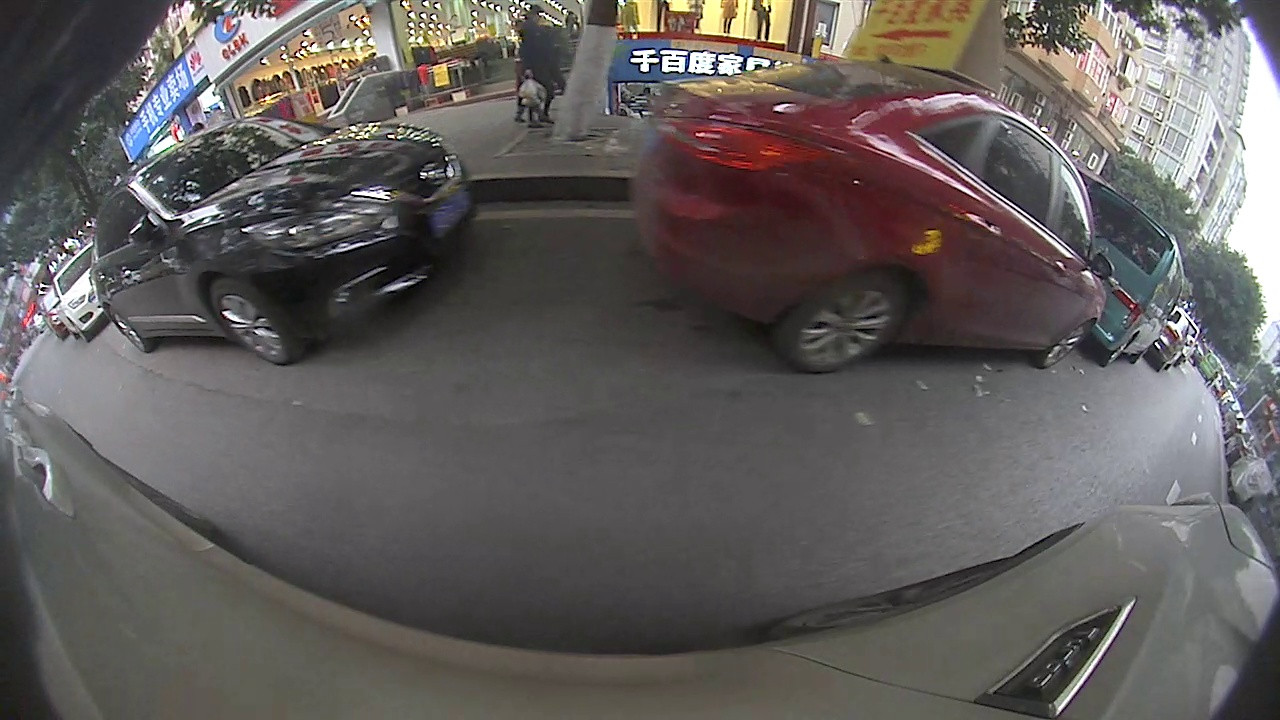car: (627, 57, 1117, 377), (90, 114, 479, 368), (1079, 178, 1187, 369), (50, 242, 105, 343)
front: (205, 279, 295, 368), (1033, 319, 1093, 371)
person: (519, 6, 547, 130)
rear: (778, 276, 915, 377), (105, 306, 150, 355), (1101, 336, 1138, 367)
